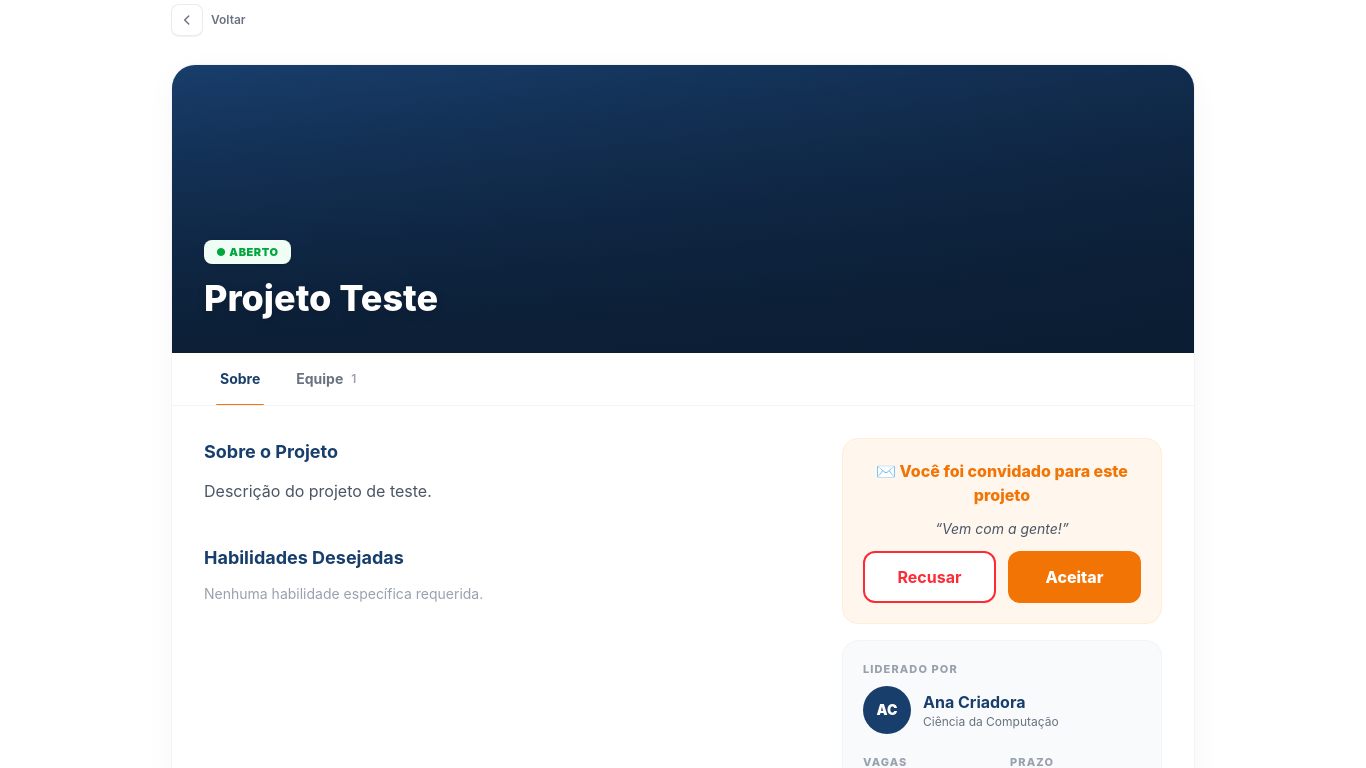
Test: DetalhesProjeto › permite que o convidado aceite o convite recebido
This screenshot has width=1366, height=768.
Expected: the text "✉ Você foi convidado para este projeto" is shown, [863, 459, 1141, 507]
Expected: the text "“Vem com a gente!”" is shown, [935, 520, 1069, 537]
Click the button "Aceitar". click: [1074, 577]
box: [1008, 551, 1141, 603]
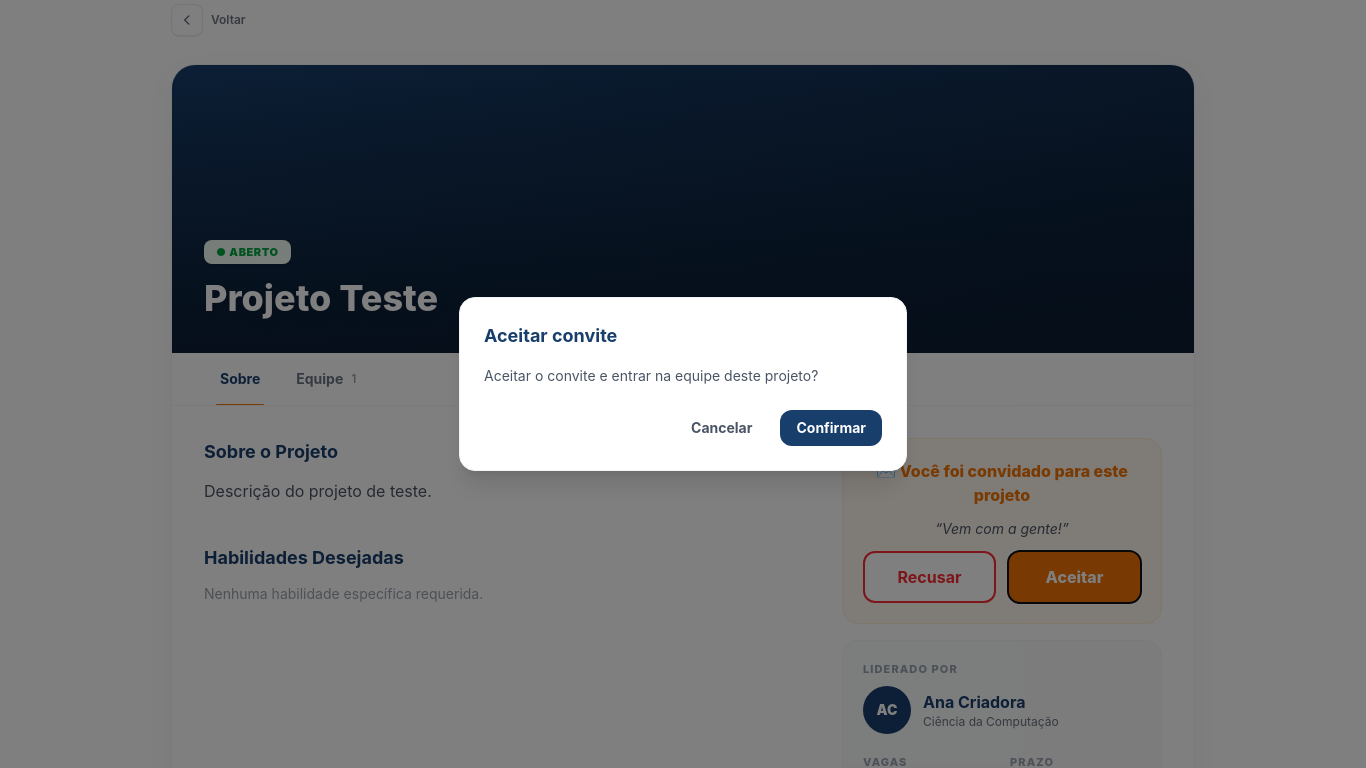
Click the button "Confirmar". click: [831, 428]
box: [780, 410, 882, 446]
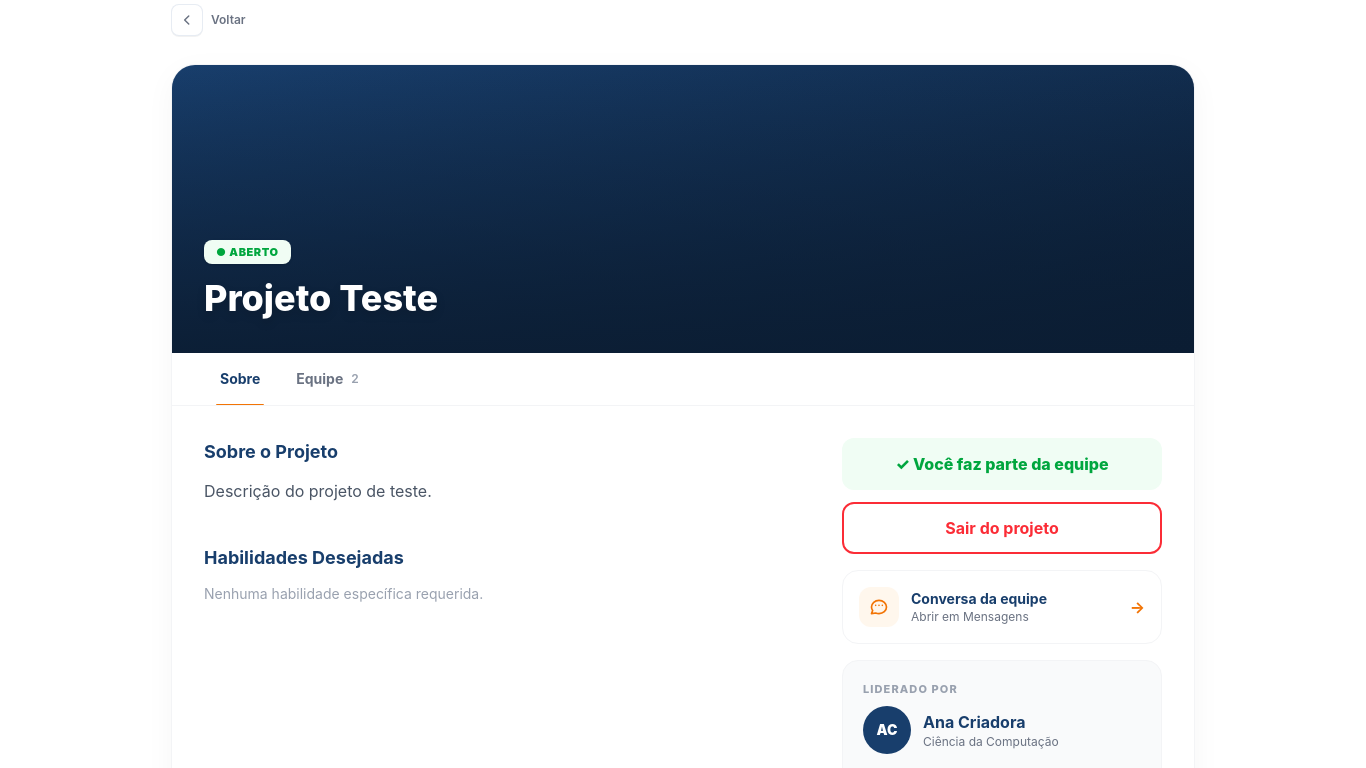
Now the text "Você foi convidado" is gone
